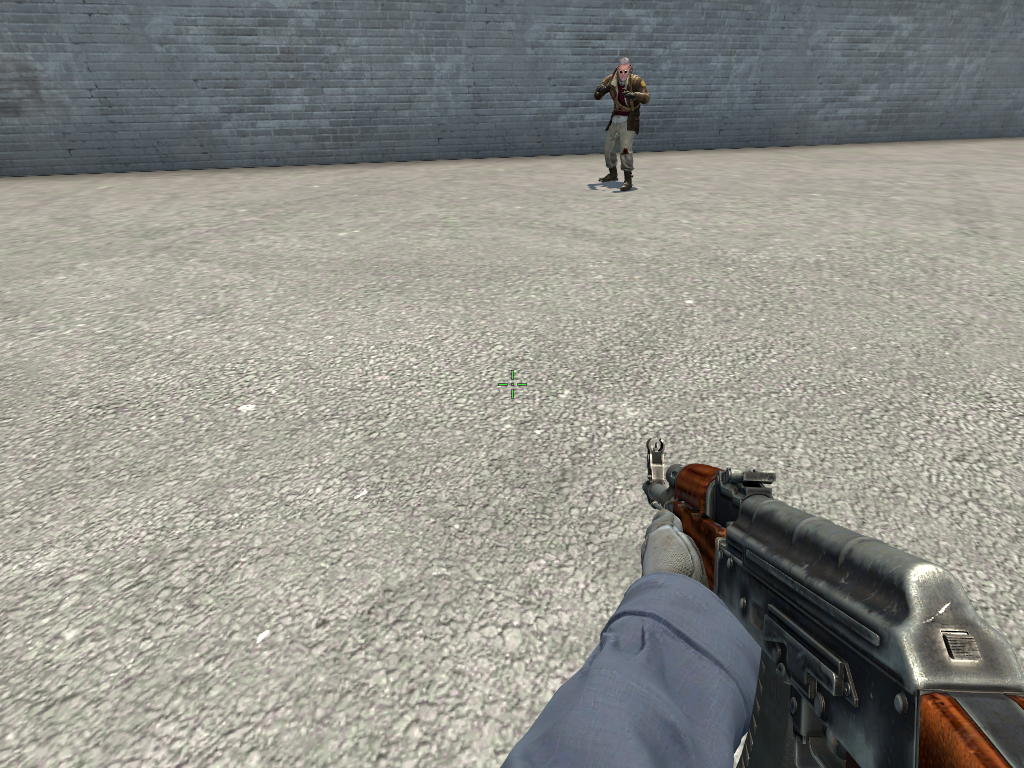tr head: (615, 57, 633, 82)
